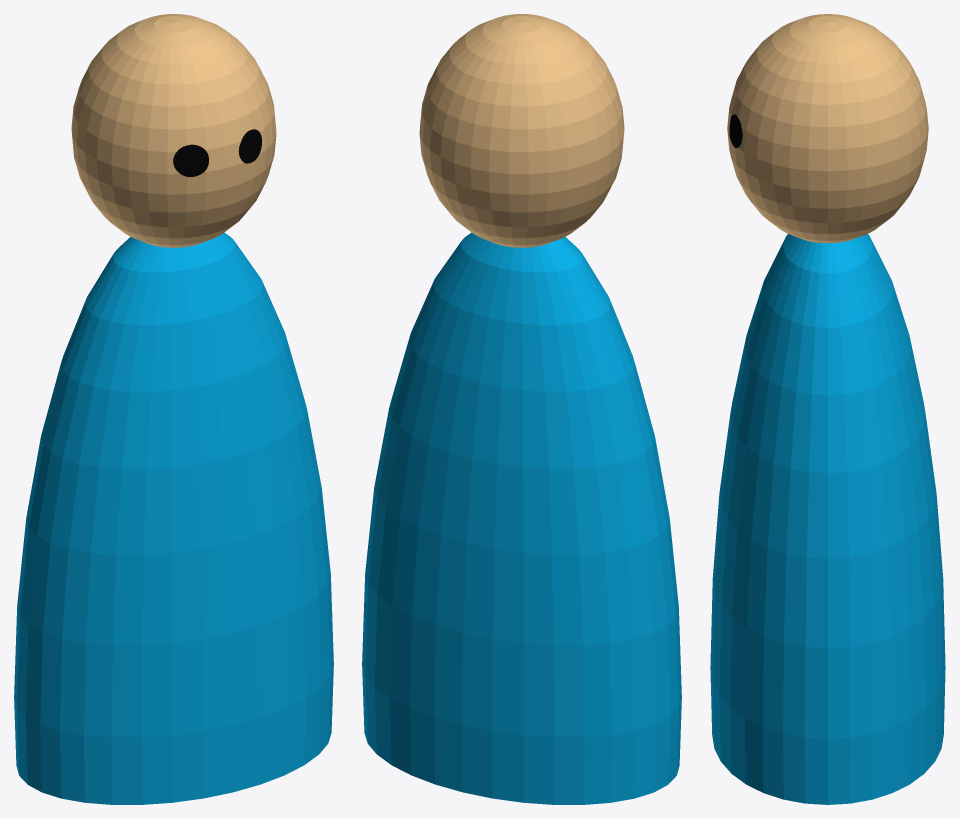
The model's file is player1.fbx.
3 renders of one model, left to right at view 1: azimuth 30°, elevation 25°; view 2: azimuth 150°, elevation 25°; view 3: azimuth 270°, elevation 25°, orthographic.
Parts seen in each view (by area): view 1: Sphere, Sphere.001, Sphere.002, Sphere.003; view 2: Sphere, Sphere.001; view 3: Sphere, Sphere.001.
Boxes of the visible parts, bbox=[...] form: Sphere: bbox=[14, 232, 333, 804]; Sphere.001: bbox=[71, 14, 276, 247]; Sphere.002: bbox=[173, 144, 208, 176]; Sphere.003: bbox=[238, 129, 261, 163]; Sphere: bbox=[362, 232, 681, 804]; Sphere.001: bbox=[419, 14, 624, 247]; Sphere: bbox=[710, 234, 945, 804]; Sphere.001: bbox=[727, 14, 928, 243].
Bounding box in the file's own units: 200 × 468 × 140.
